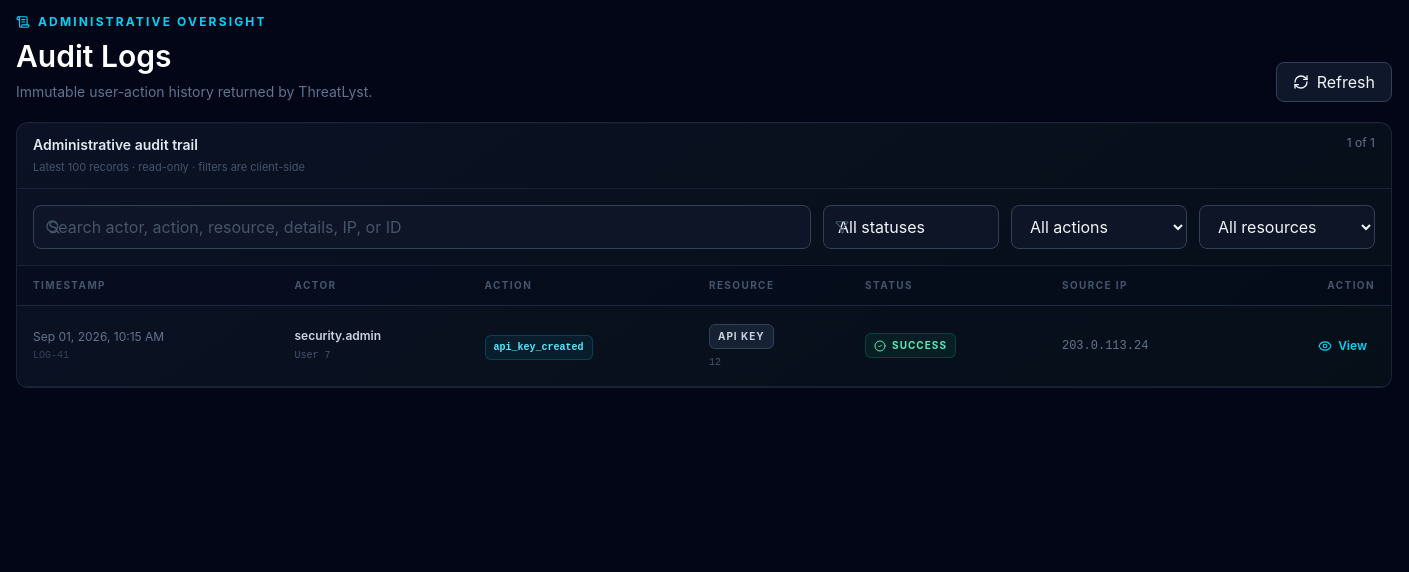
Test: AuditLogsPage › filters the returned audit dataset client-side
In the field named "Search audit logs": (422, 226) left=33, top=204, right=811, bottom=248, type "not present"
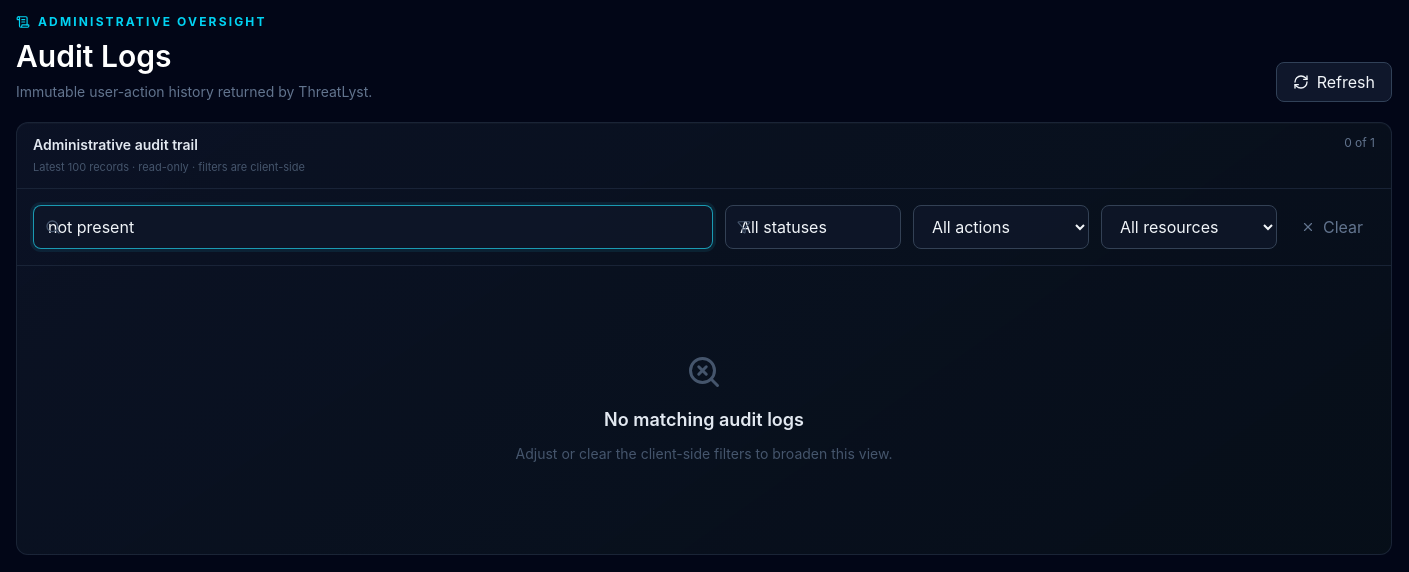
Expected: the heading "No matching audit logs" is shown, left=604, top=408, right=804, bottom=430
